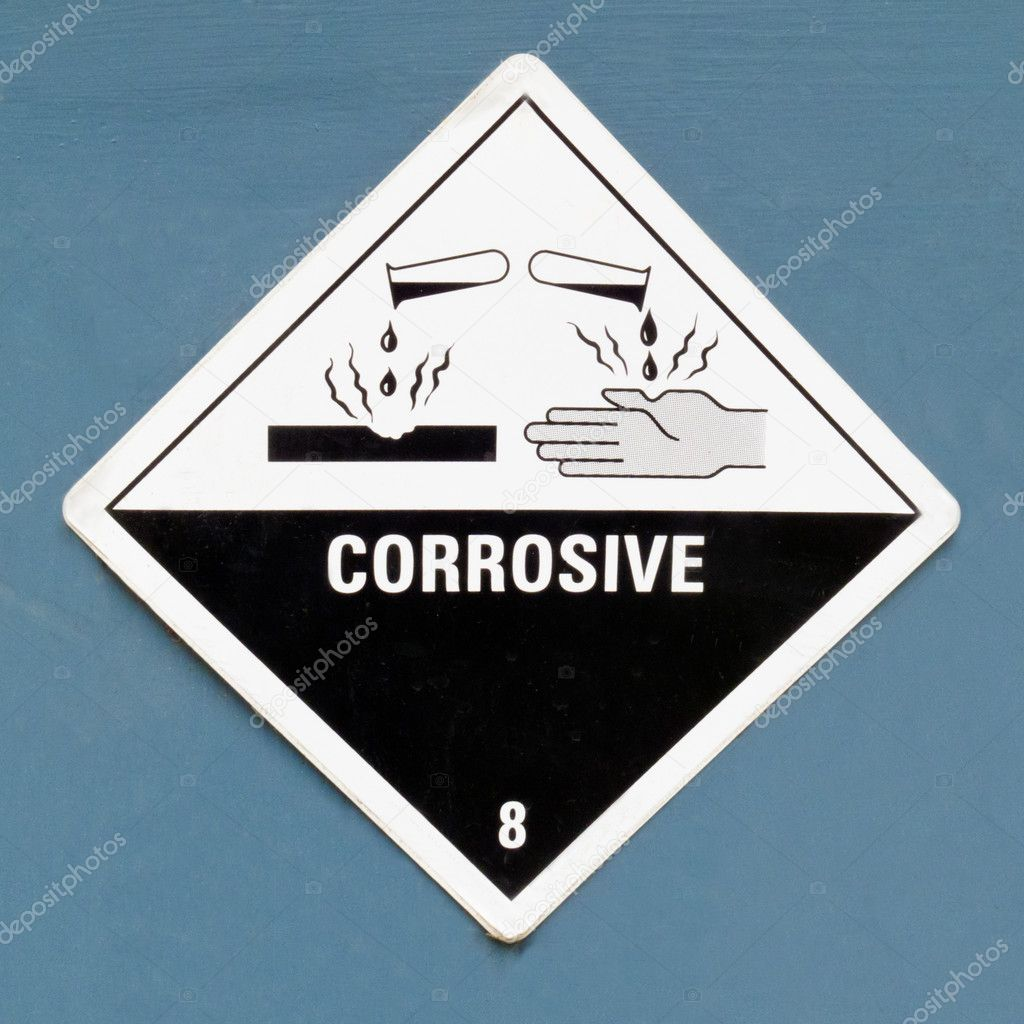Corrosive: (62, 52, 960, 946)
